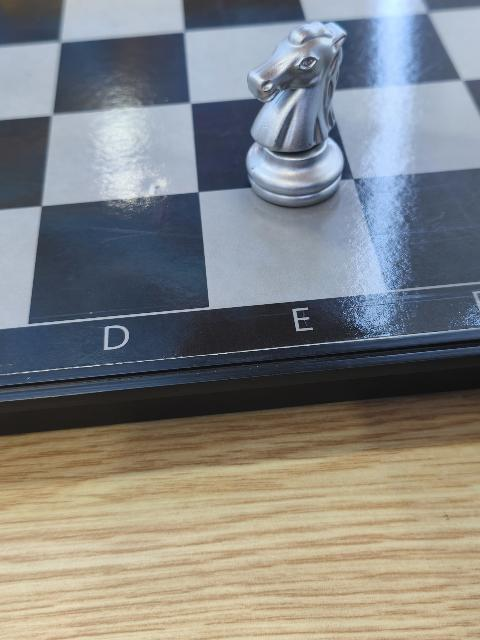white_knight: (239, 18, 351, 208)
